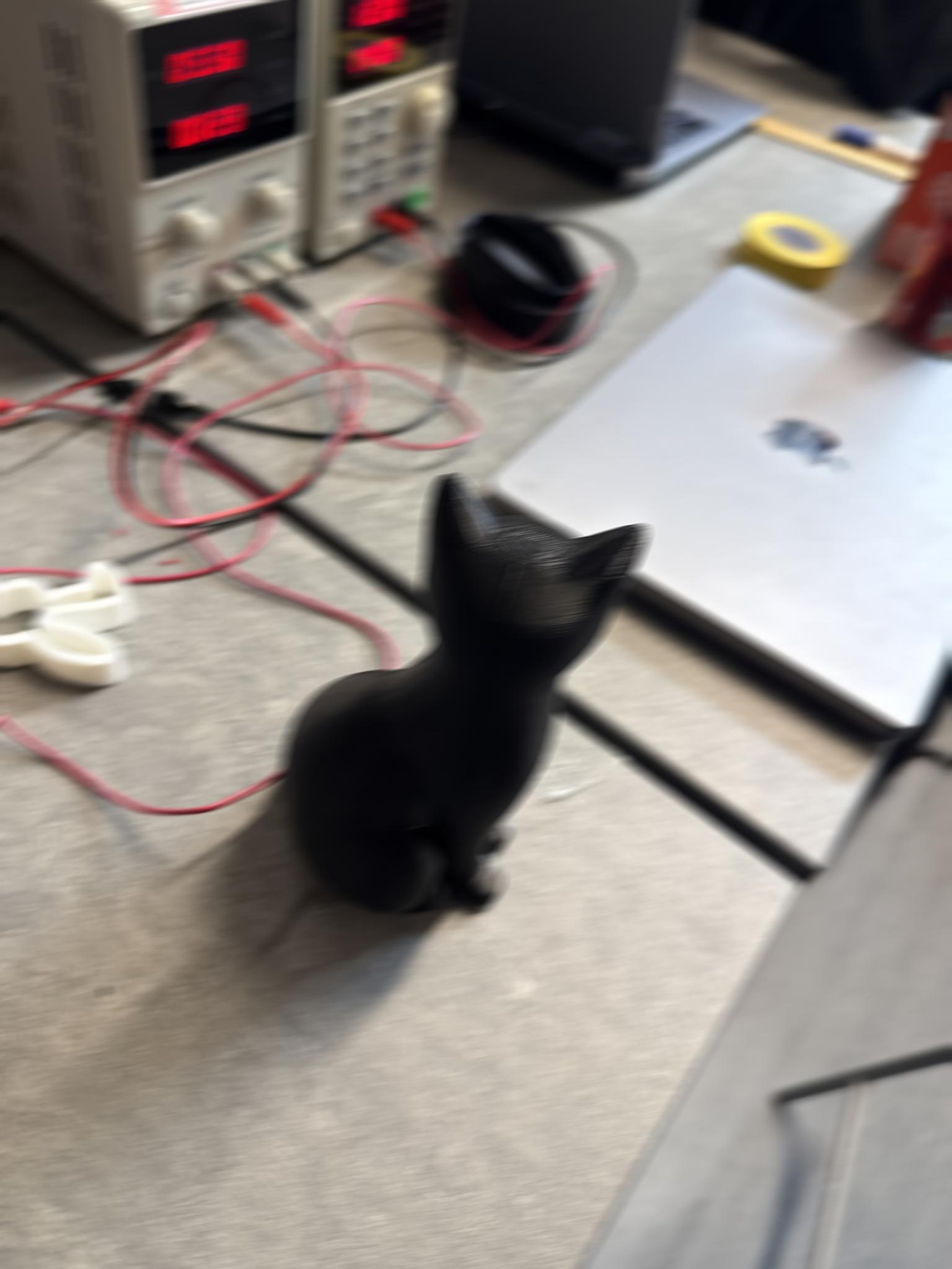cat: (276, 474, 647, 913)
